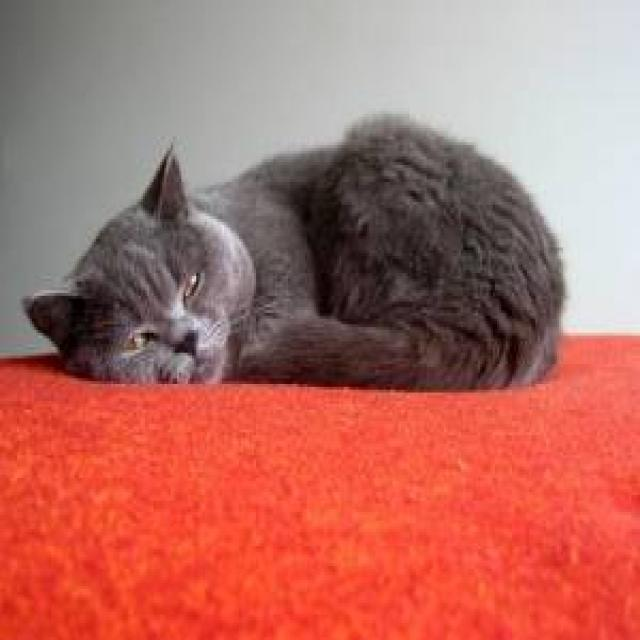British_Shorthair: (19, 148, 244, 398)
